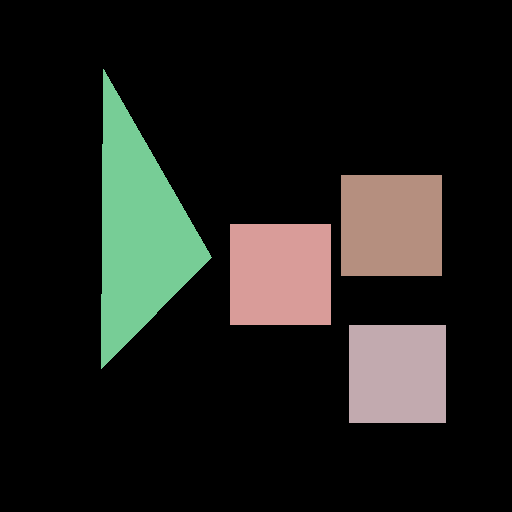square: (230, 224, 330, 324), (341, 175, 441, 275), (349, 325, 445, 422)
triangle: (101, 69, 211, 368)
